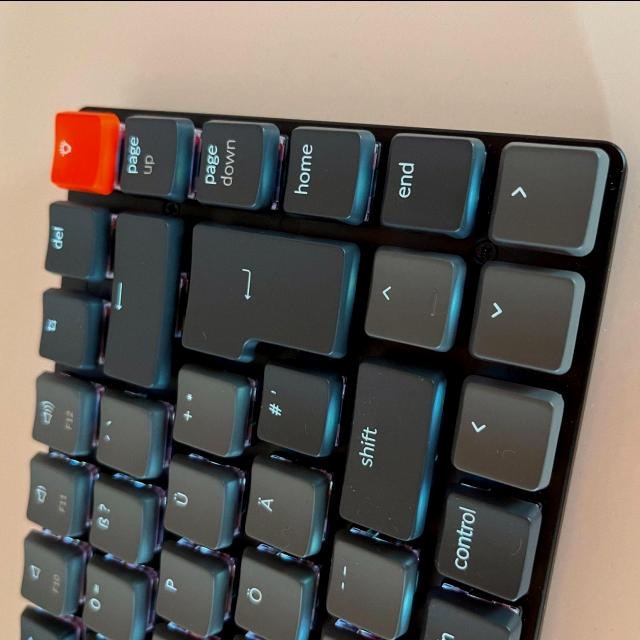0: (80, 562, 136, 640)
accent: (97, 392, 153, 480)
ae: (240, 461, 326, 560)
del: (104, 210, 176, 392)
enter: (180, 222, 346, 360)
hash: (258, 357, 331, 456)
keyboard: (15, 97, 634, 640)
minus: (326, 532, 412, 640)
oe: (231, 550, 311, 640)
p: (153, 542, 220, 640)
plus: (173, 362, 246, 456)
shift-right: (337, 358, 445, 548)
ss: (89, 478, 145, 567)
strg-right: (436, 486, 534, 606)
ue: (161, 454, 234, 553)
